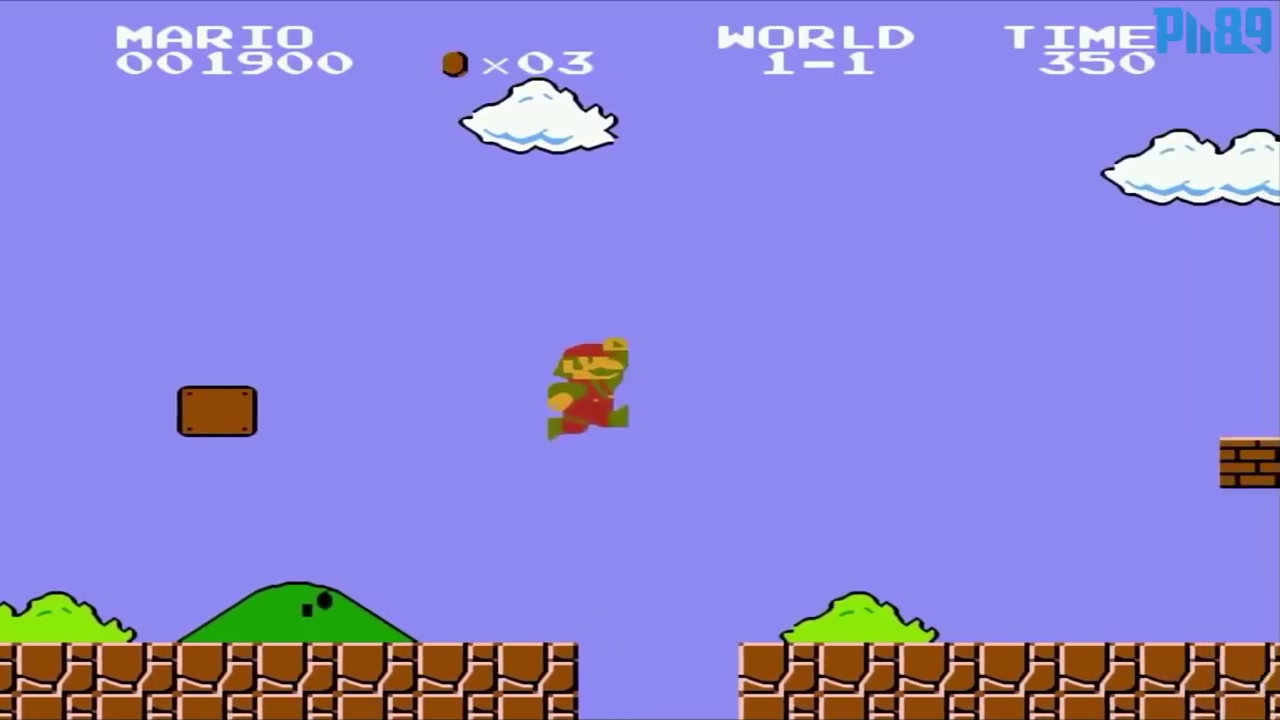mario: (535, 330, 634, 447)
